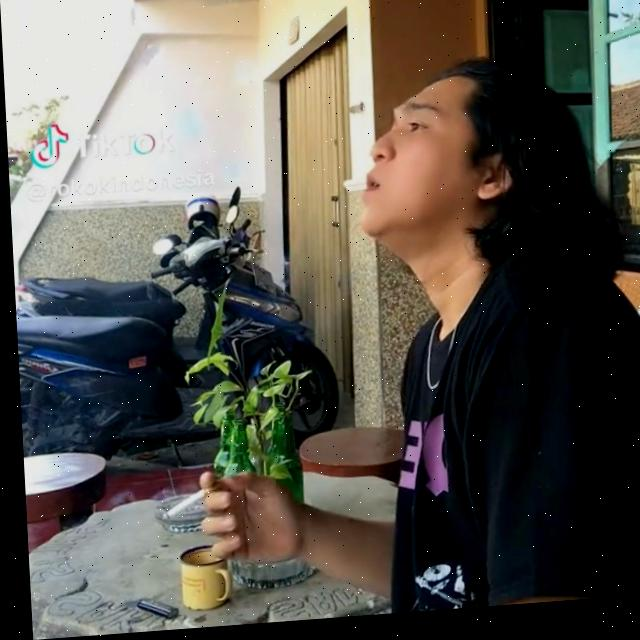cigarette: (154, 491, 200, 523)
